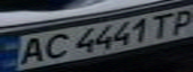1: (127, 16, 154, 44)
4: (93, 22, 118, 52), (72, 26, 96, 55), (112, 19, 136, 47)
A: (12, 35, 51, 66)
C: (36, 32, 72, 61)
P: (163, 7, 193, 35)
T: (145, 11, 181, 39)
